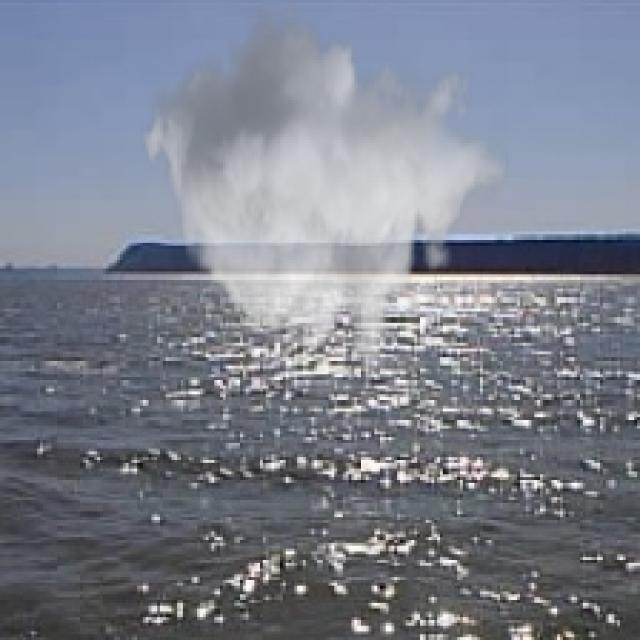Smoke: (140, 0, 509, 377)
